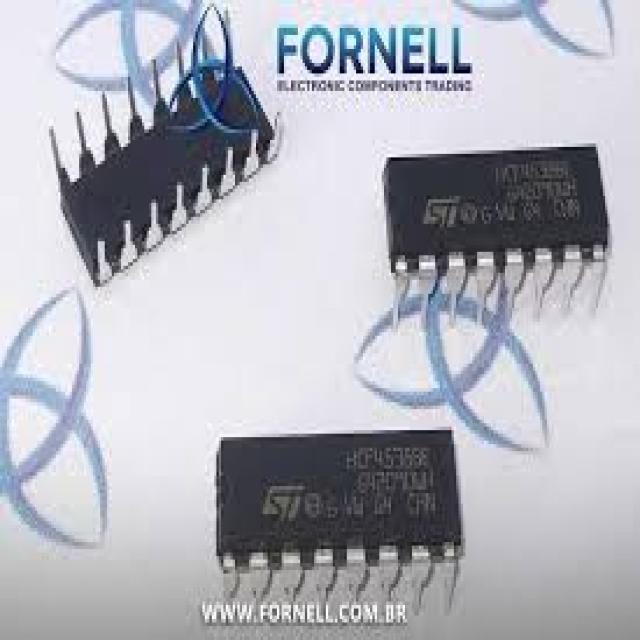IC: (54, 59, 277, 287), (212, 427, 464, 620), (382, 142, 616, 325)
